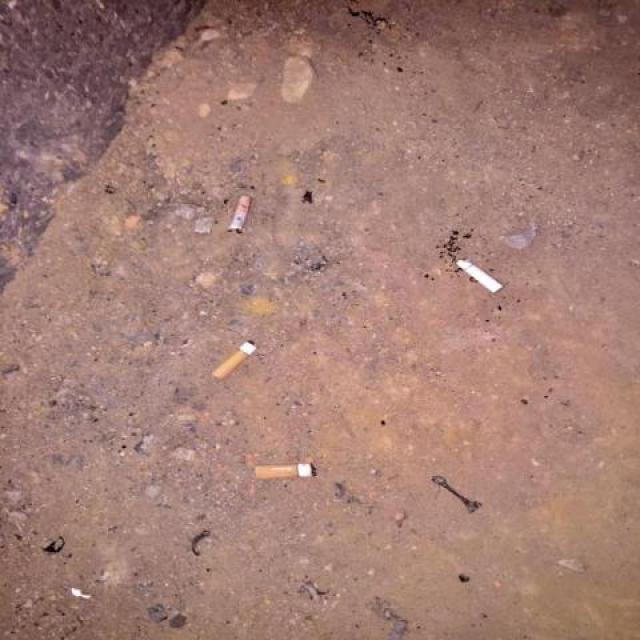non-organic waste: (208, 329, 264, 391), (451, 253, 509, 298), (249, 455, 323, 488), (224, 184, 259, 237)
